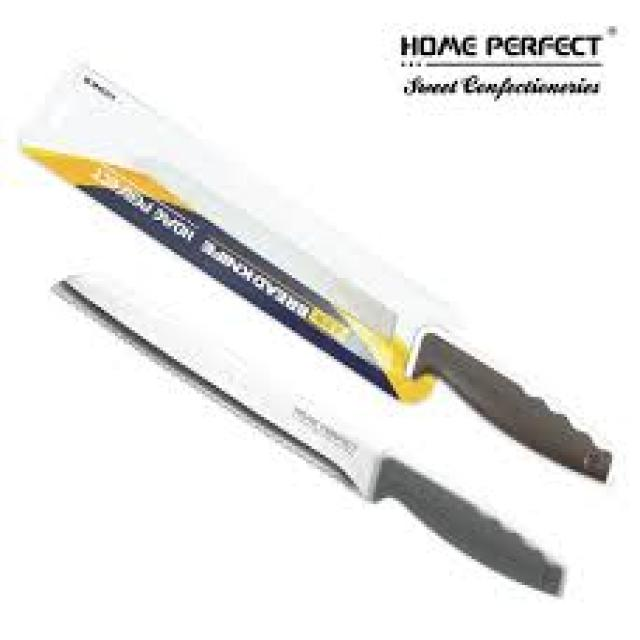Knife: (51, 272, 567, 597)
